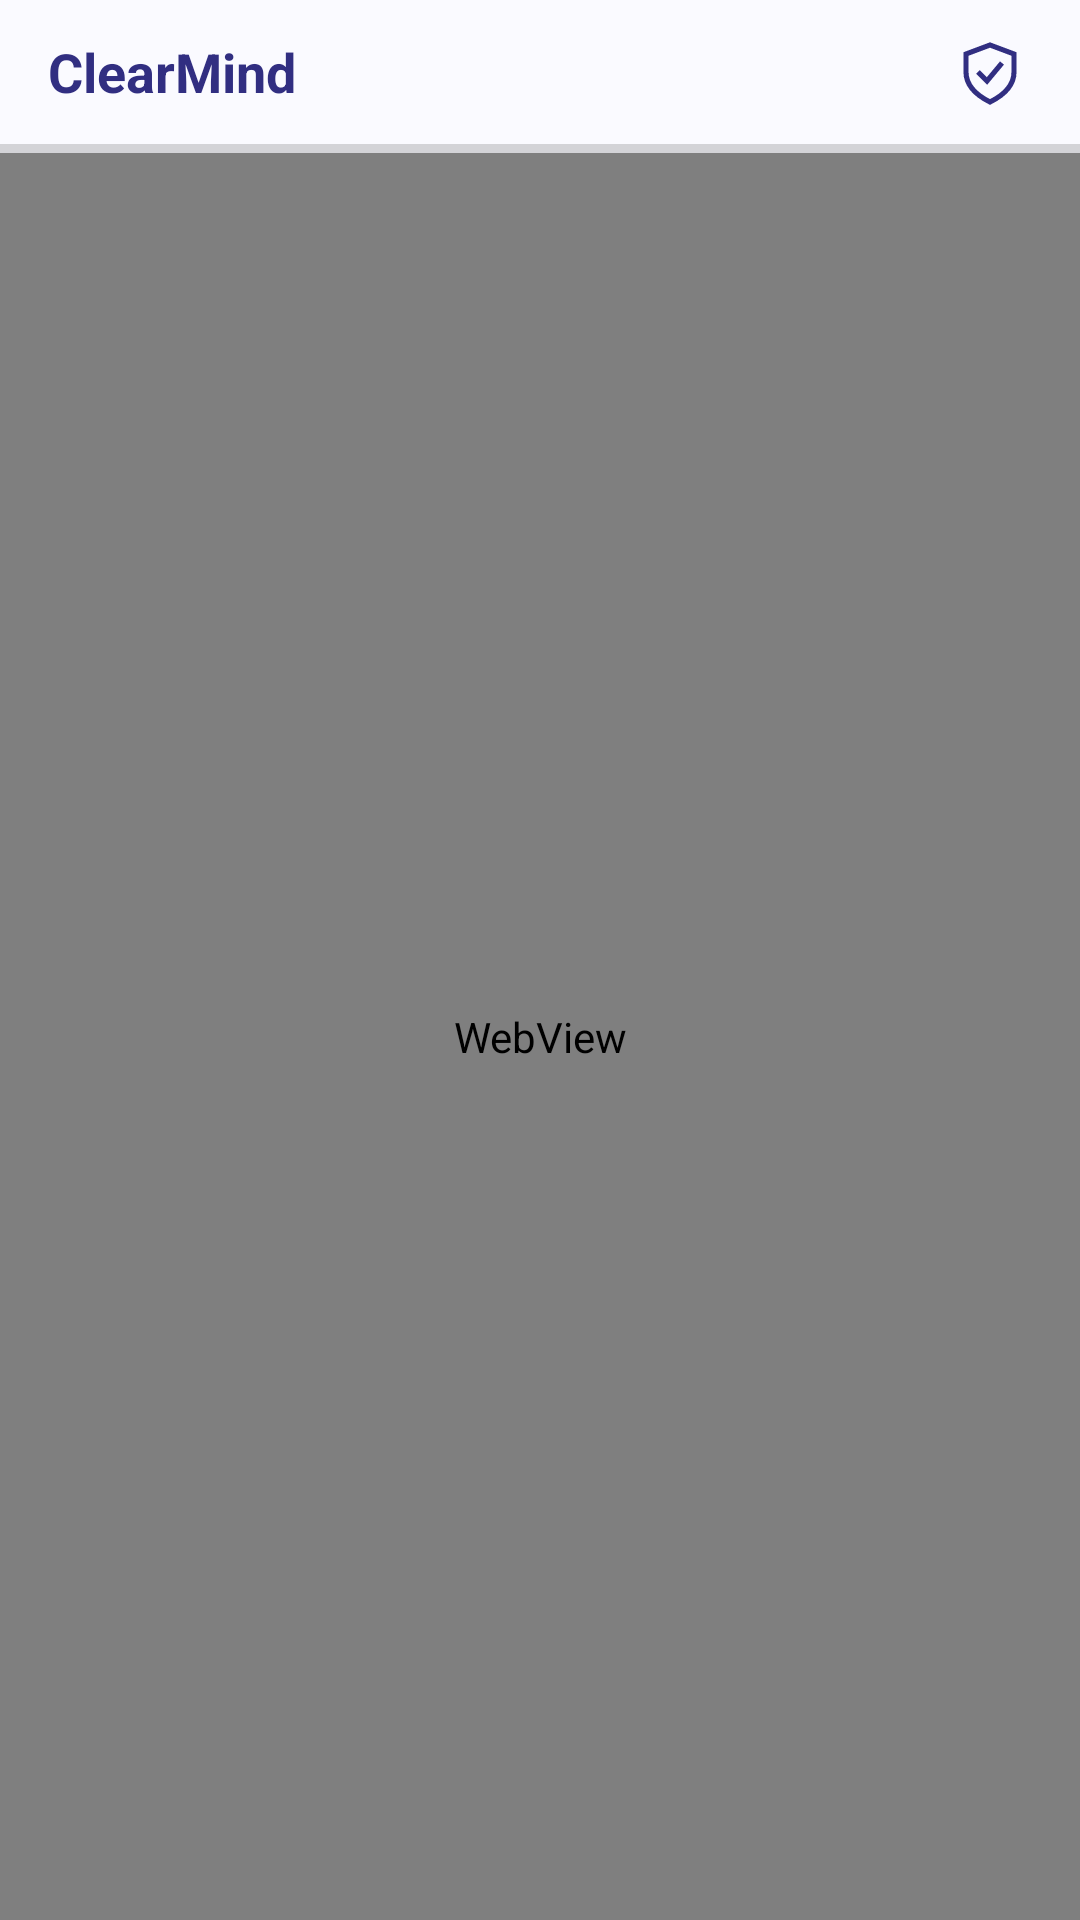

Icons on this 1080 × 1920 Android screen, each with its box as [x1,y1,x2,y2]:
Protection status: [963,42,1017,105]
